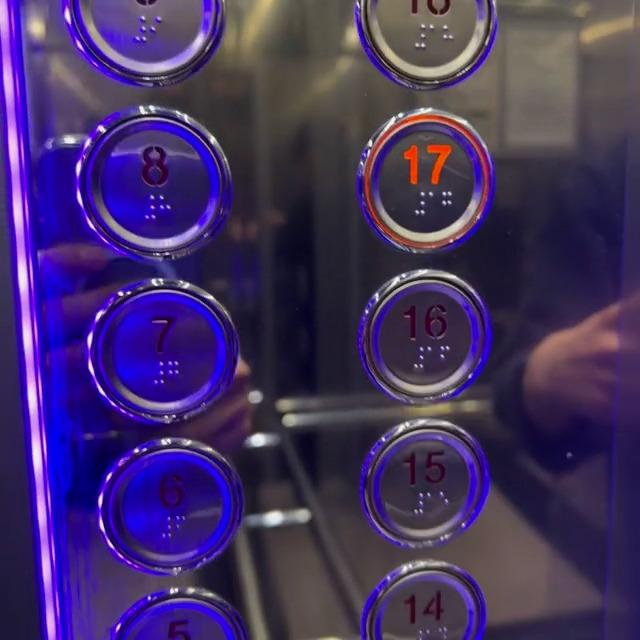button: (74, 108, 220, 255), (80, 282, 232, 422), (364, 100, 502, 238), (358, 278, 498, 402), (100, 452, 249, 567), (356, 432, 498, 538), (360, 565, 490, 640)
